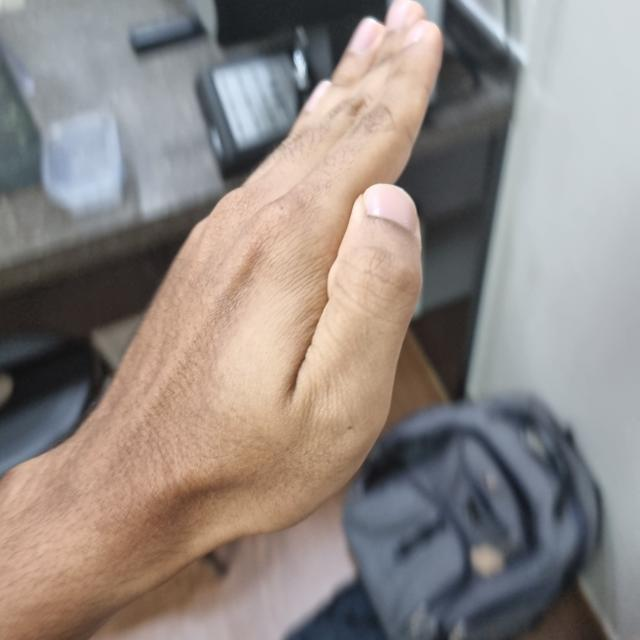Paper: (90, 4, 438, 552)
